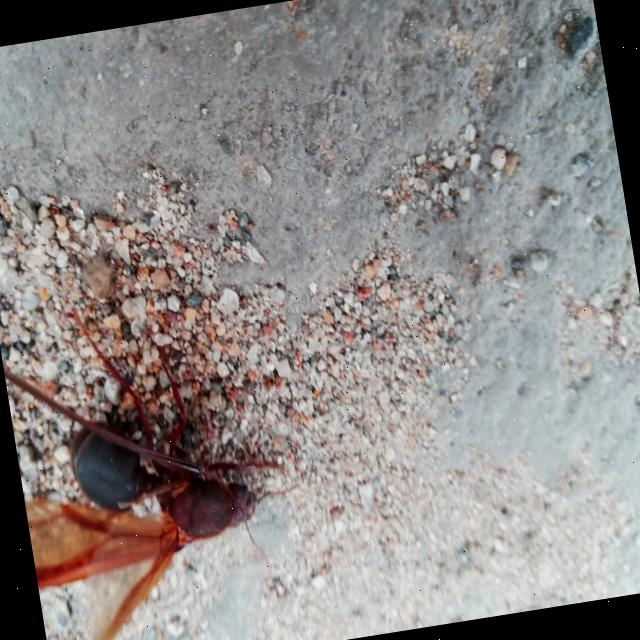Alive-Female-Alate: (0, 269, 319, 640)
